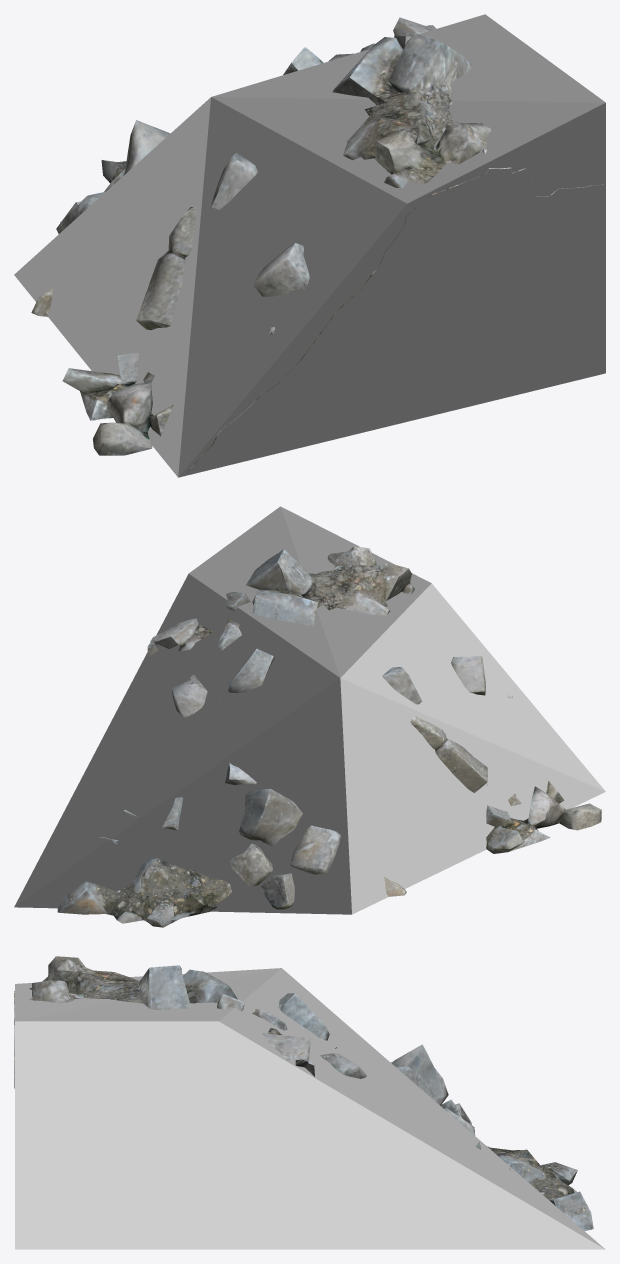
File: SM_Rubble_02_03.fbx
3 renders of one model, top to bottom at view 1: azimuth 30°, elevation 25°; view 2: azimuth 150°, elevation 25°; view 3: azimuth 270°, elevation 25°, orthographic. The views are drawn at different scales.
Visible parts, largest first — view 1: sm_Rubble_02_03_ConvexHulls, sm_Rubble_02_03_LOD0; view 2: sm_Rubble_02_03_ConvexHulls, sm_Rubble_02_03_LOD0; view 3: sm_Rubble_02_03_ConvexHulls, sm_Rubble_02_03_LOD0.
Boxes of the visible parts, x1,y1,x2,y2 form: sm_Rubble_02_03_ConvexHulls: (14, 14, 605, 477); sm_Rubble_02_03_LOD0: (31, 17, 603, 476); sm_Rubble_02_03_ConvexHulls: (14, 506, 605, 914); sm_Rubble_02_03_LOD0: (57, 546, 601, 927); sm_Rubble_02_03_ConvexHulls: (15, 968, 605, 1249); sm_Rubble_02_03_LOD0: (14, 956, 593, 1230).
Size of the model in its own units: 109 by 65.93 by 143.
